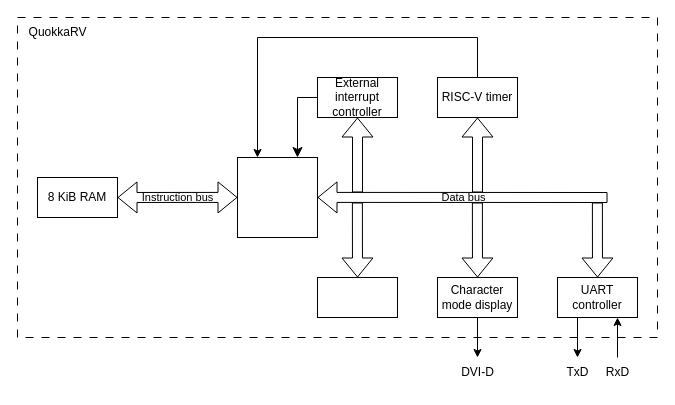
This 675x405 diagram has some shape labels left out. Each missing label, with the box of its shape:
64 KiB RAM: (316, 276, 398, 318)
RISC-V core: (236, 156, 318, 238)
